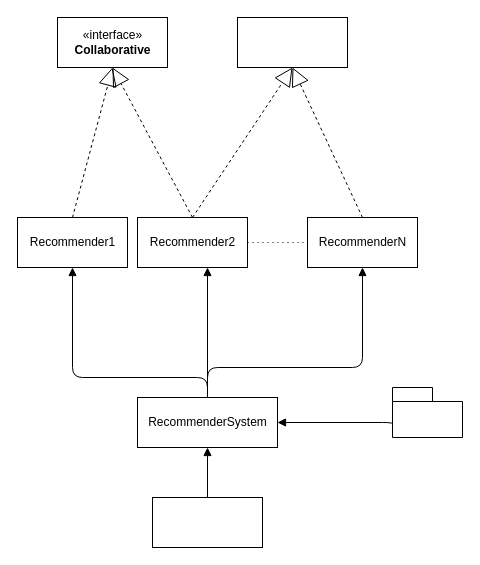
This 480x565 diagram has some shape labels left out. The centre of each missing label's shape, as x and y in pixels:
"Evaluator" belongs at pixel 207 522.
"ResDiary" belongs at pixel 427 412.
"«interface» Content" belongs at pixel 292 42.
